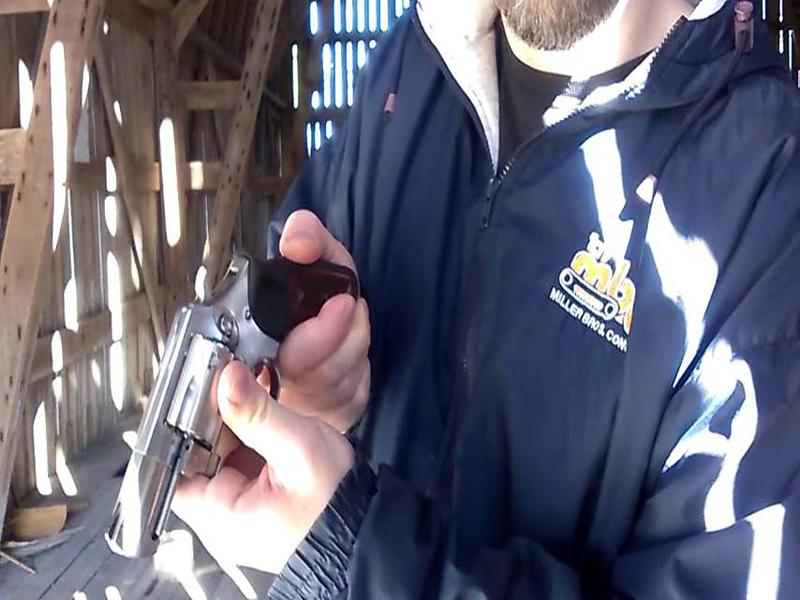Revolver: (107, 242, 287, 564)
